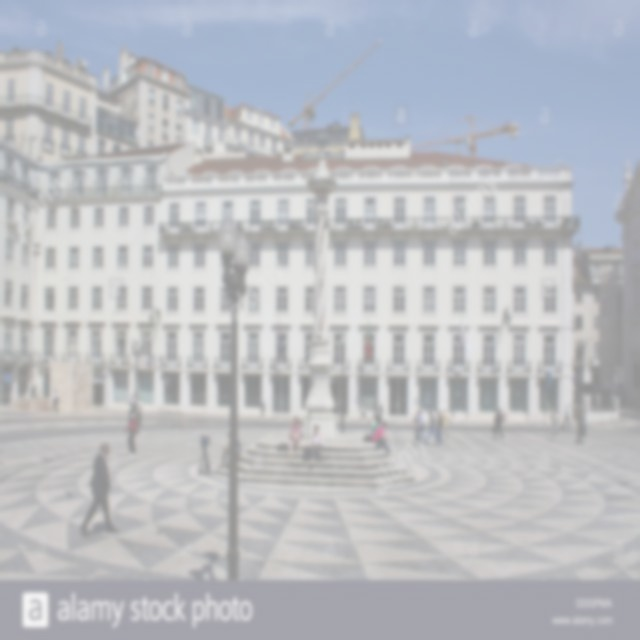pessoa: (78, 441, 120, 538), (216, 428, 242, 468), (123, 408, 139, 458), (308, 423, 325, 469), (372, 414, 392, 452), (372, 421, 393, 457), (286, 414, 302, 460), (424, 408, 439, 448), (371, 416, 388, 448), (412, 408, 426, 446), (412, 410, 424, 443), (434, 410, 444, 448), (441, 408, 452, 441), (74, 368, 86, 395), (494, 408, 504, 440), (549, 408, 560, 437), (560, 404, 572, 428), (48, 388, 58, 413), (359, 398, 368, 421), (128, 394, 134, 412), (374, 400, 379, 416), (138, 396, 142, 414), (134, 392, 136, 407)
